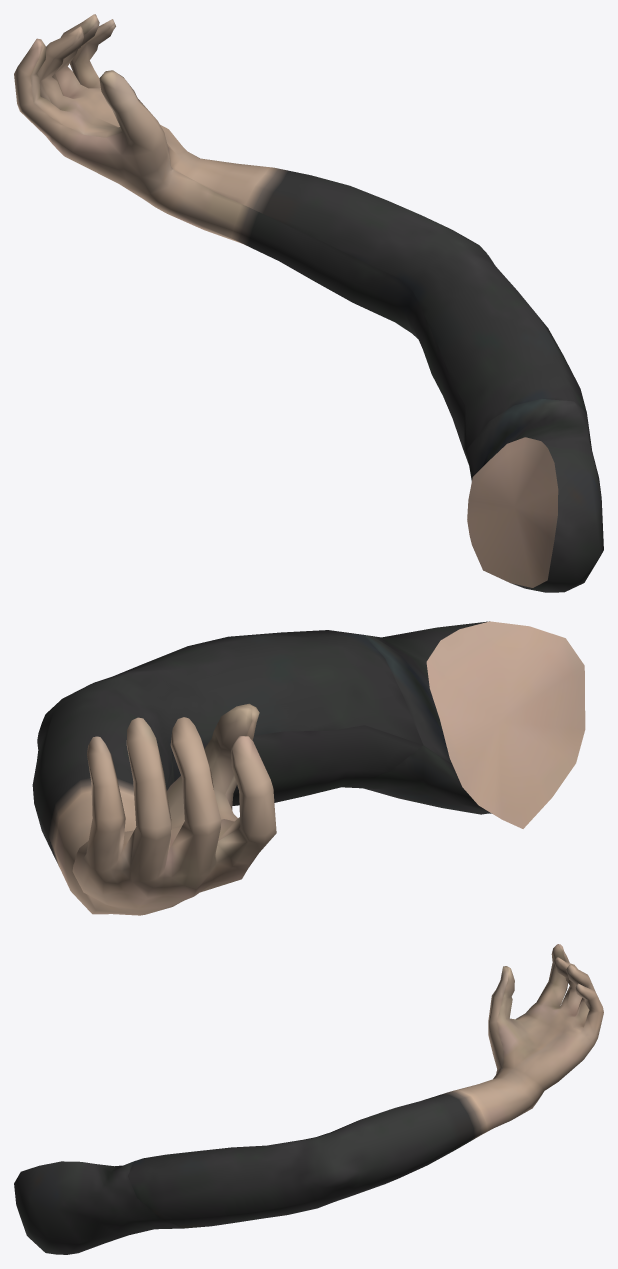
Rendered from dest_nt_nuked_female_01_arm_left_LOD0.obj.
The picture shows the model from 3 angles, top to bottom: view 1: azimuth 30°, elevation 25°; view 2: azimuth 150°, elevation 25°; view 3: azimuth 270°, elevation 25°; orthographic projection. The views are drawn at different scales.
Visible parts, largest first — view 1: mtl_nt_2020_manne_fem01_head1; view 2: mtl_nt_2020_manne_fem01_head1; view 3: mtl_nt_2020_manne_fem01_head1.
Boxes of the visible parts, bbox=[...] form: mtl_nt_2020_manne_fem01_head1: bbox=[14, 14, 603, 592]; mtl_nt_2020_manne_fem01_head1: bbox=[32, 621, 585, 915]; mtl_nt_2020_manne_fem01_head1: bbox=[14, 944, 603, 1254].
Size of the model in its own units: 26.97 by 28.19 by 60.33.
